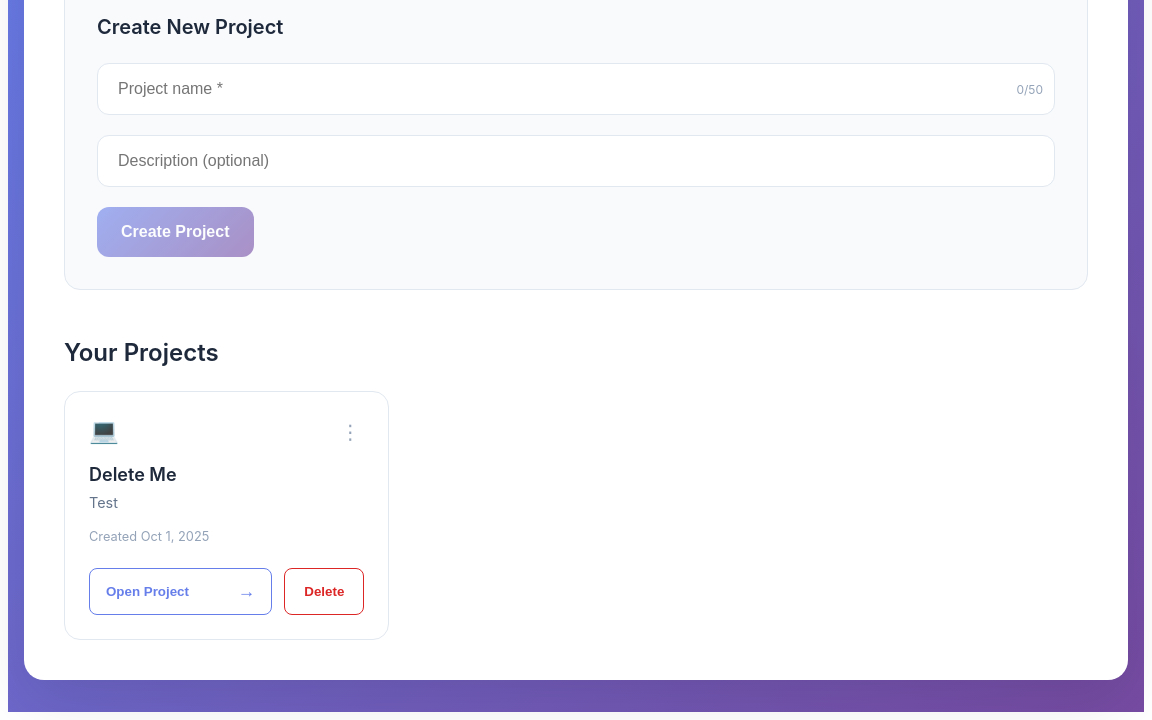
Test: Projects Component › deletes a project successfully
(page scrolled)
Check: the heading "Delete Me" is shown, box [89,464,177,485]
What coordinates should you click on to do the following:
click the button "Delete"
I would click on:
 (324, 592)
Its box is [284,568,364,615].
(page scrolled)
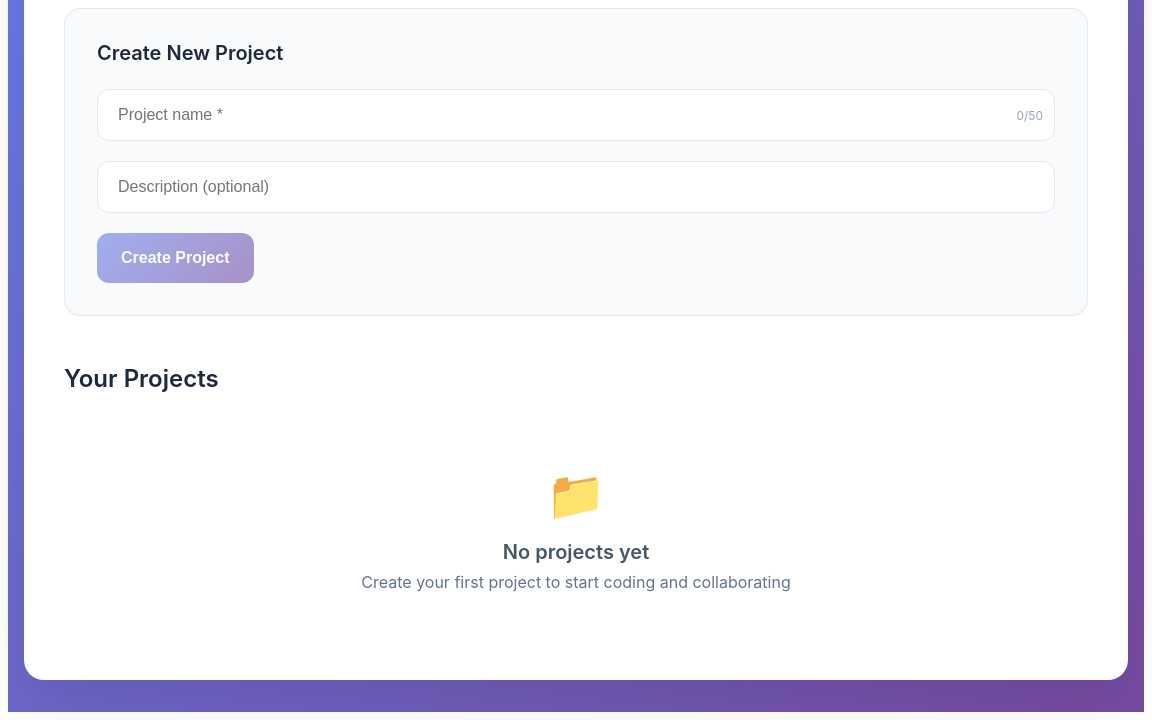
Check: the heading "Delete Me" is gone
